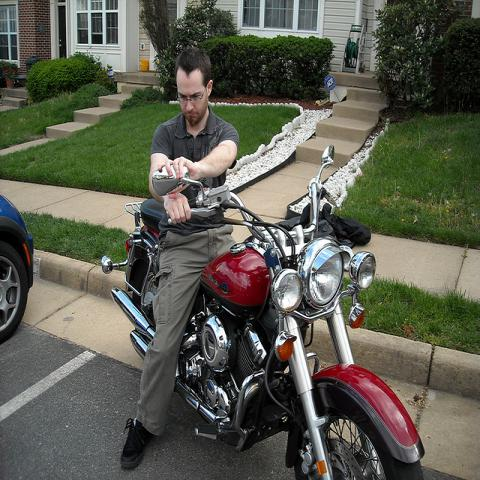car: (0, 194, 35, 345)
motorcycle: (99, 144, 441, 474)
